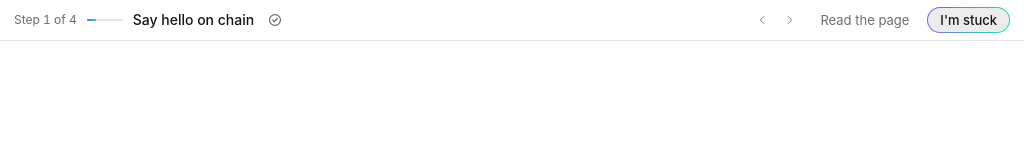
Test case: BaseObjectiveBand › shows how the step is checked under the row on request
Click the button named "How this step is checked": (275, 20) top-left (264, 9), bottom-right (286, 31)
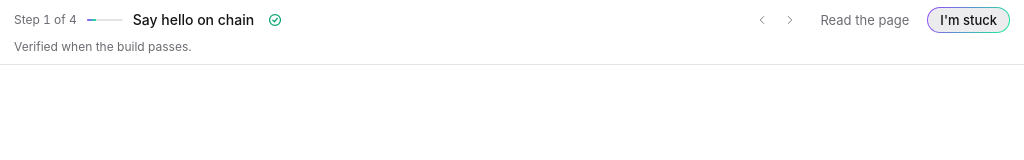
Result: the button named "How this step is checked" is expanded at top-left (264, 9), bottom-right (286, 31)
Result: the text "Verified when the build passes." is shown at top-left (14, 39), bottom-right (192, 54)
